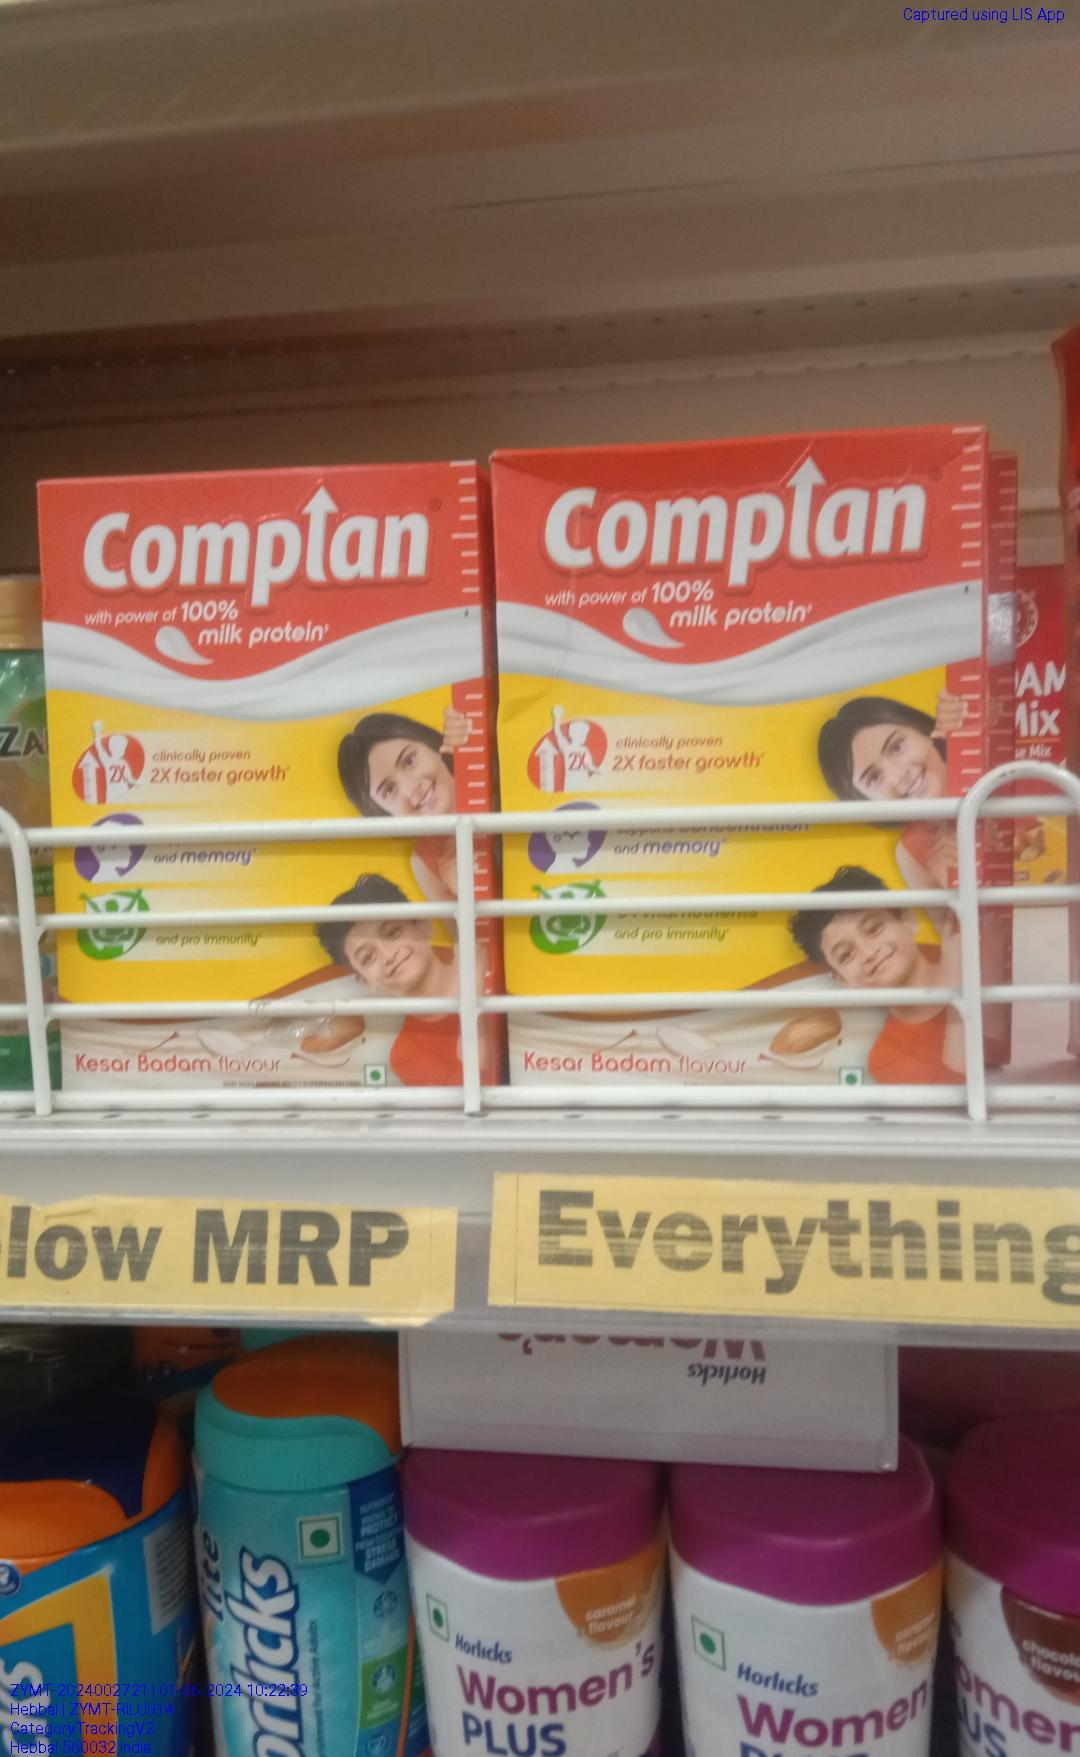COMPLAN_KESAR_BADAM_200_GMS_PACK: (498, 437, 963, 1103), (51, 467, 484, 1083)
